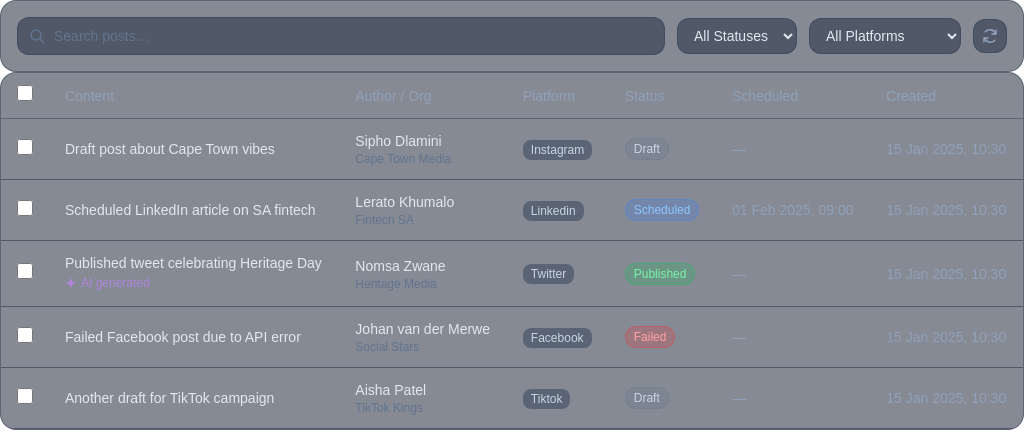
PostModerationTable › Filtering › combines status and search filters
Filter to drafts
Select "Draft" in the dropdown named "filter by status" at (737, 36), box [677, 18, 797, 54]
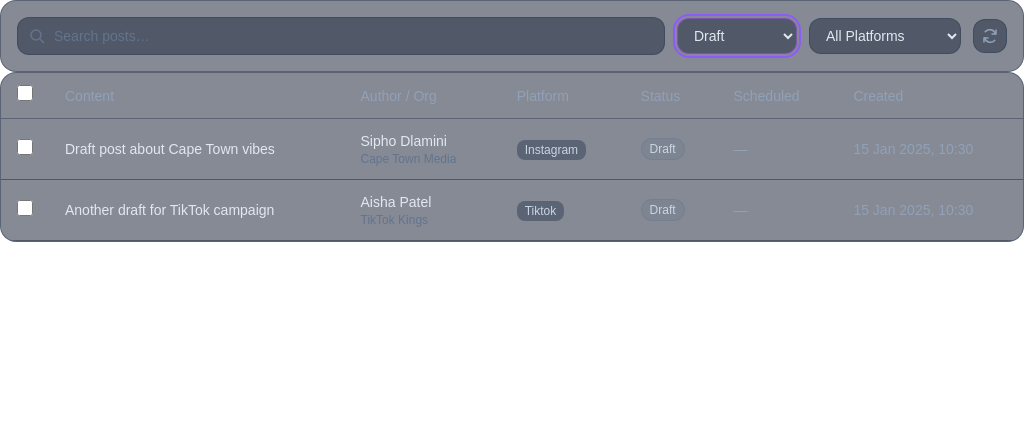
Search within drafts
Type "TikTok" into the search field labelled "Search posts…" at (341, 36), box [17, 17, 665, 55]
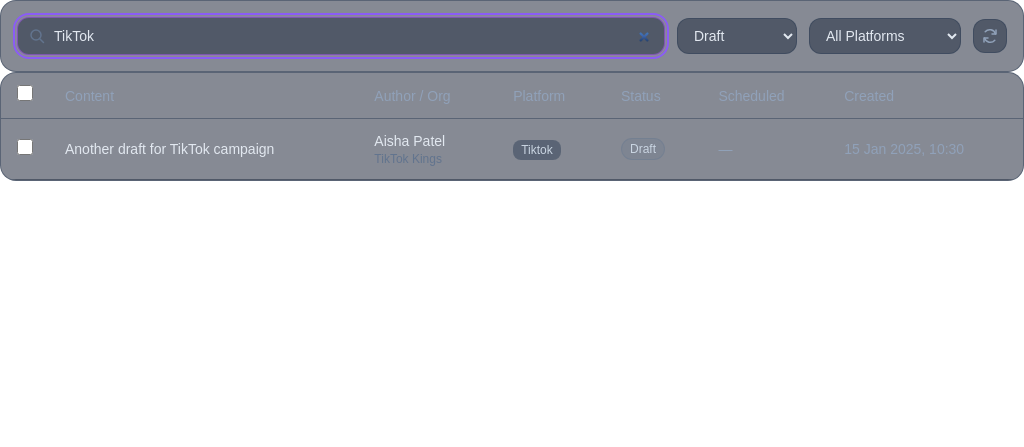
expect the text "Another draft for TikTok campaign" is shown: met, box [65, 139, 274, 159]
expect the button "Draft post about Cape Town" is gone: met
